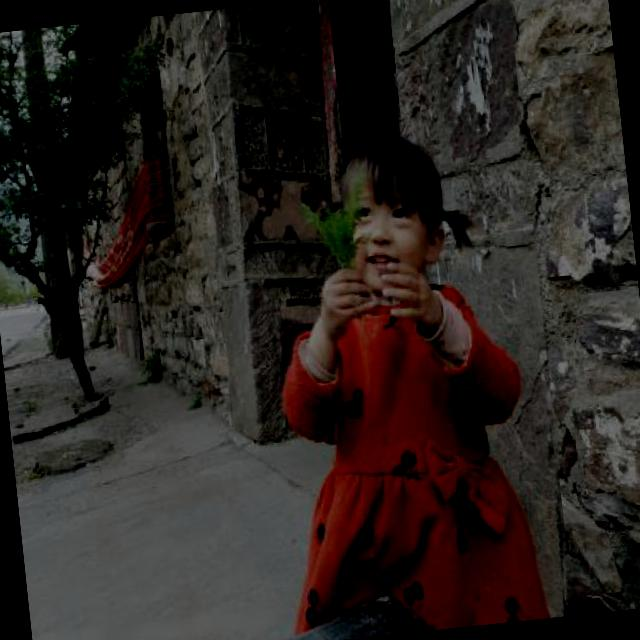Person: (228, 87, 551, 640)
